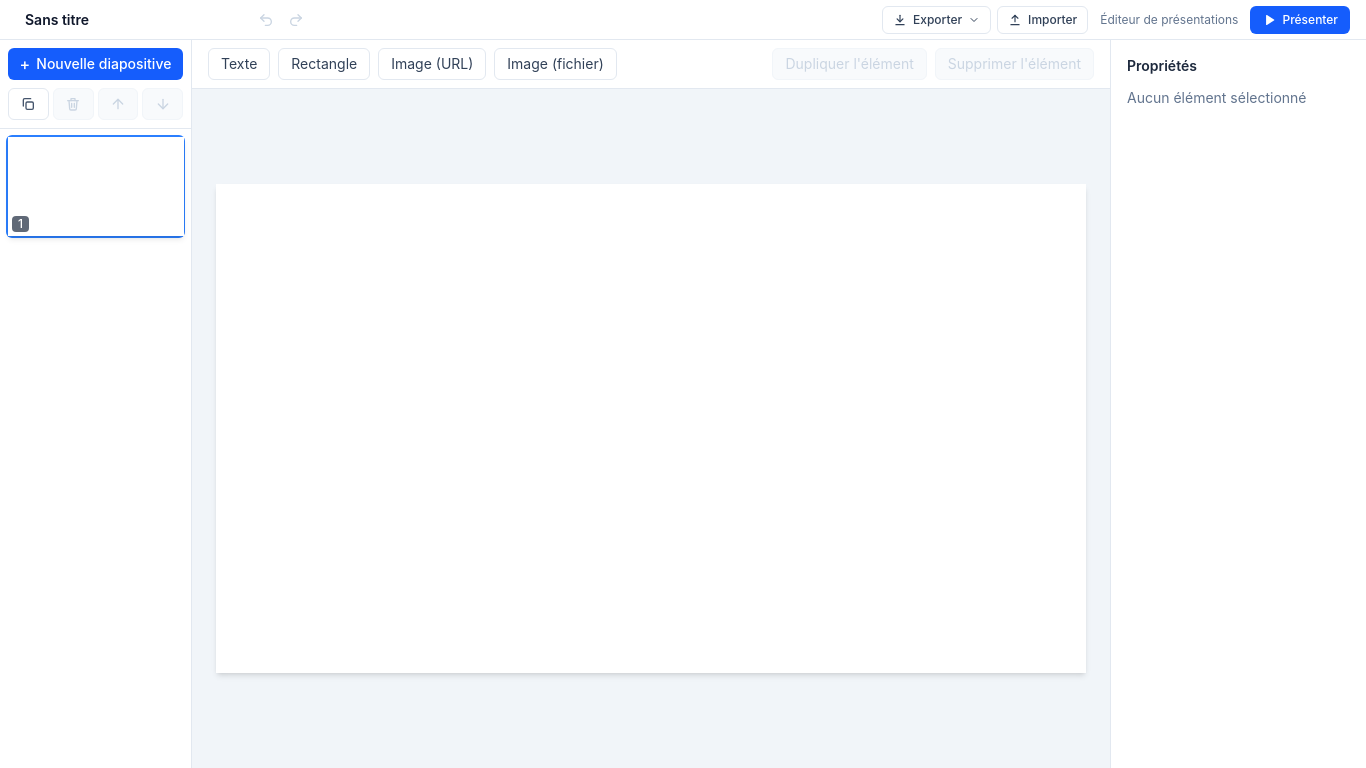
Test: EditorLayout : annuler et rétablir (boutons) › Rétablir remet le rectangle
Click the button "Rectangle" at (324, 64), box [278,48,370,80]
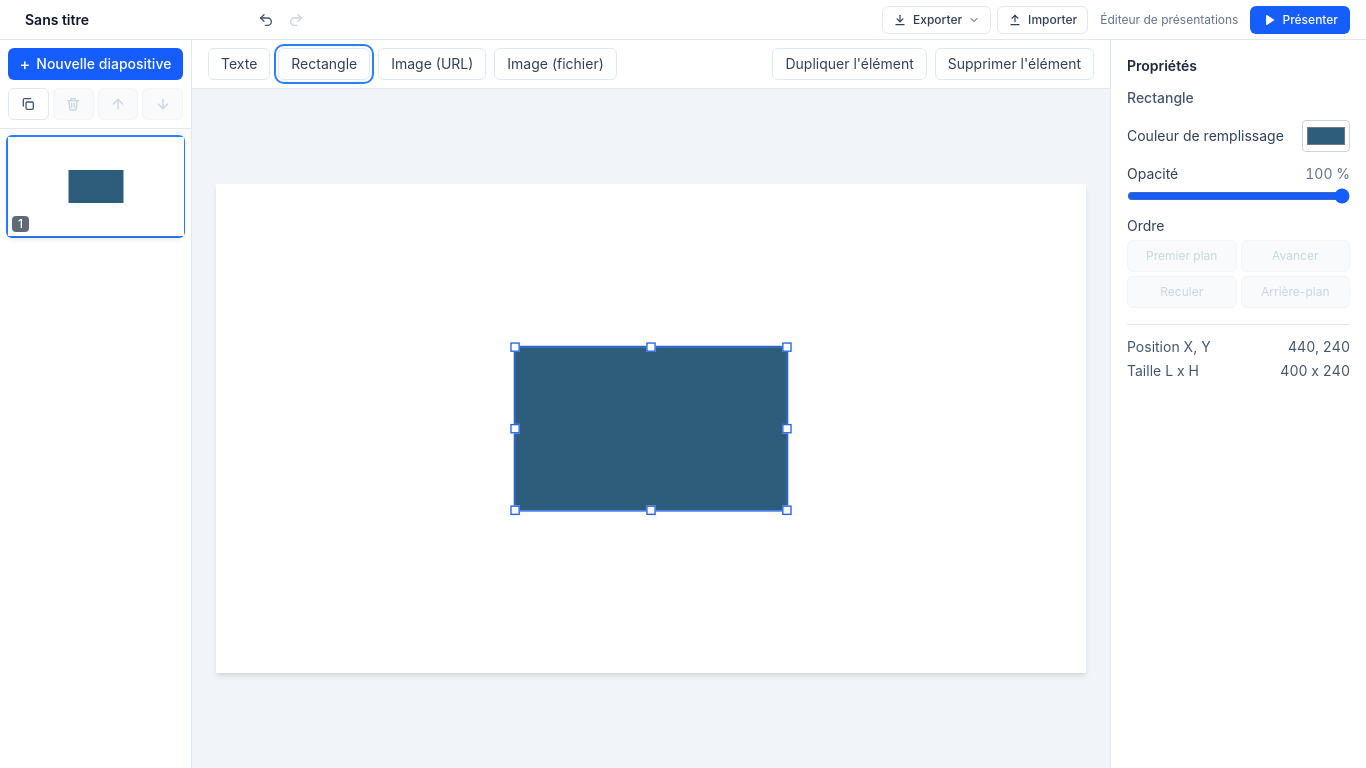
Click the button named "Annuler" at (266, 20), box [252,6,280,34]
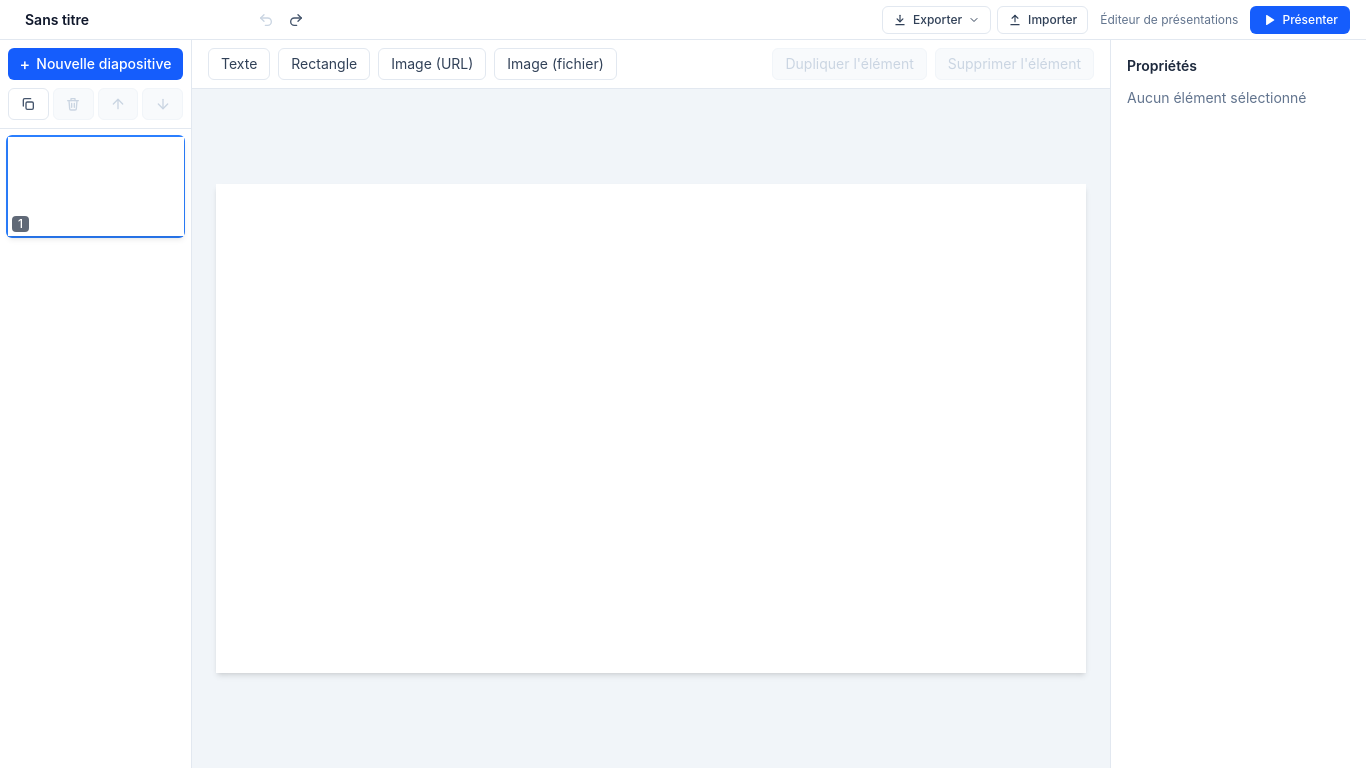
Click the button named "Rétablir" at (296, 20), box [282,6,310,34]
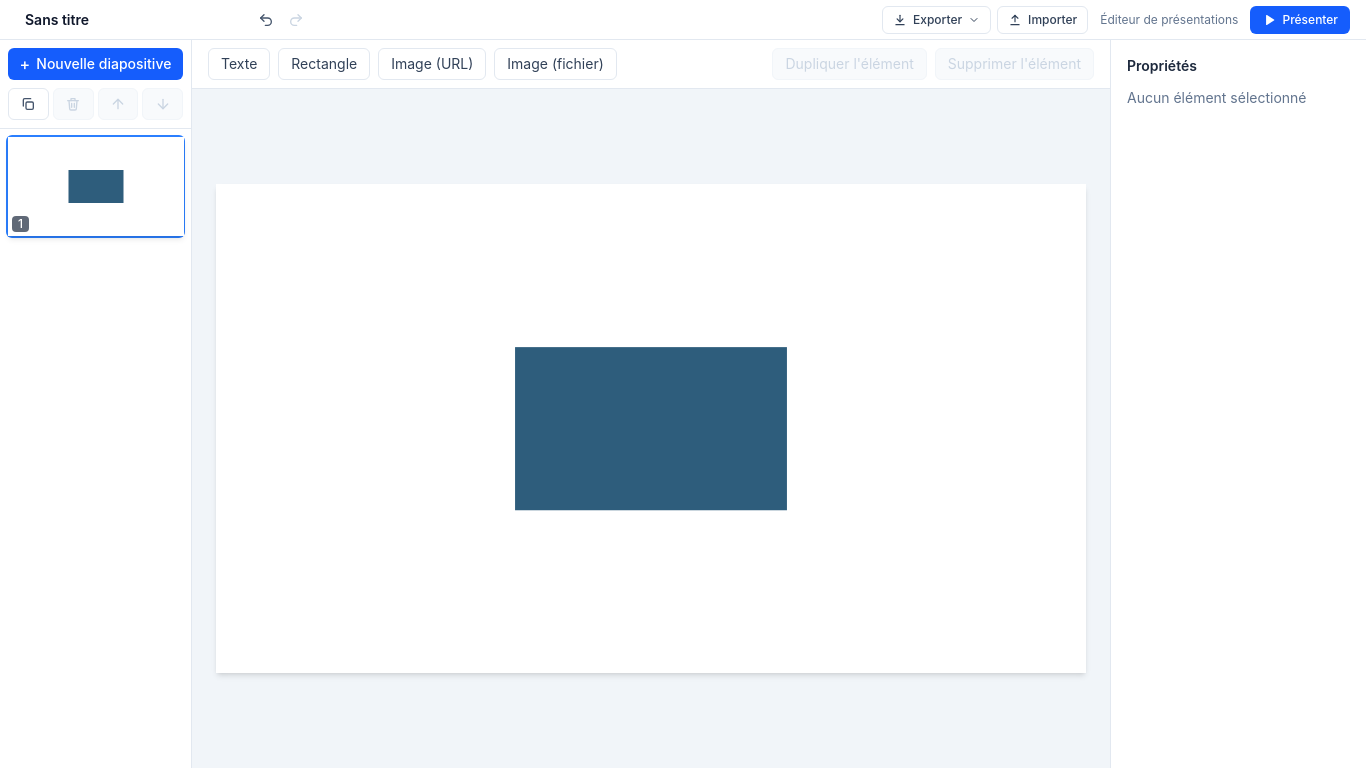
Expected: the button named "Rétablir" is disabled, [282,6,310,34]
Expected: the button named "Annuler" is enabled, [252,6,280,34]
